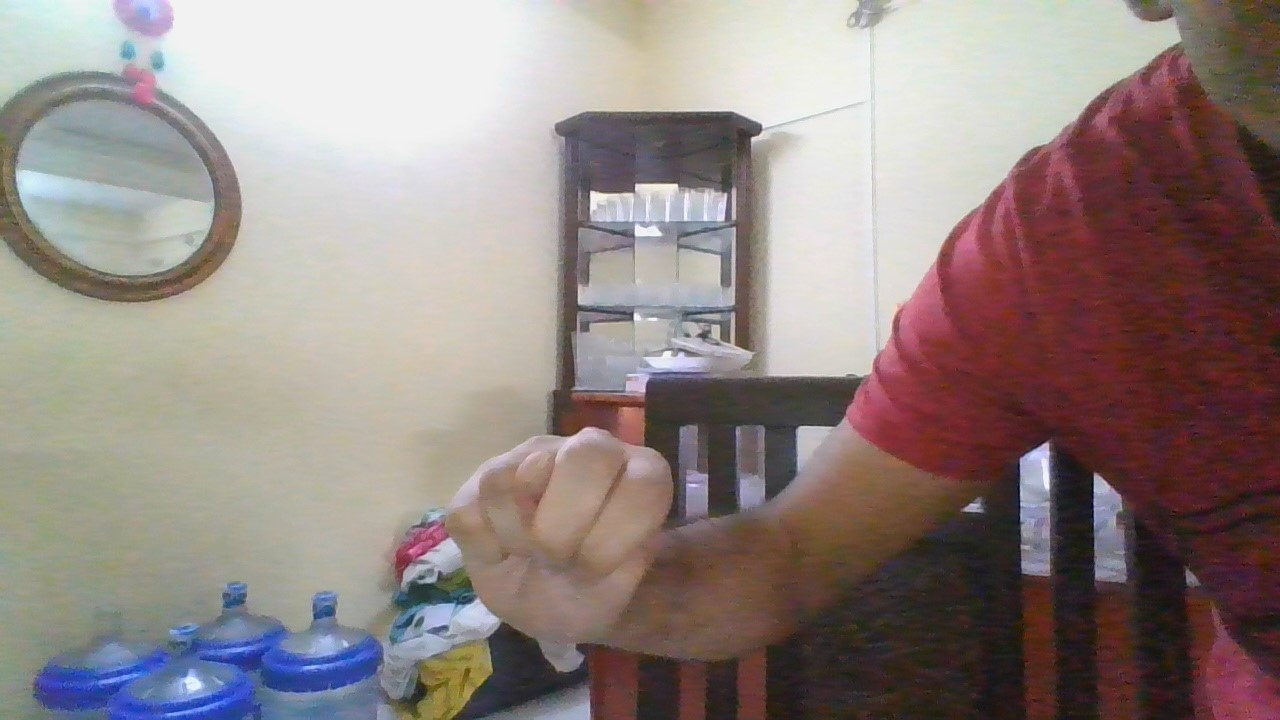n: (440, 427, 677, 655)
